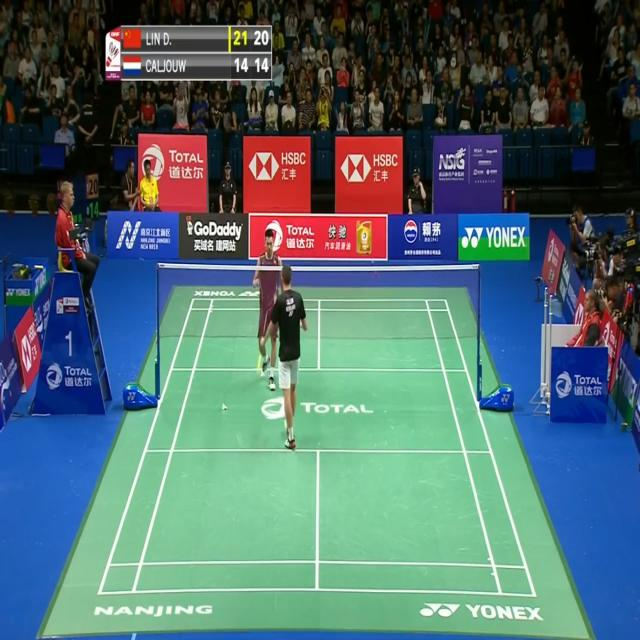Player1: (257, 258, 314, 460)
Player2: (250, 225, 288, 395)
